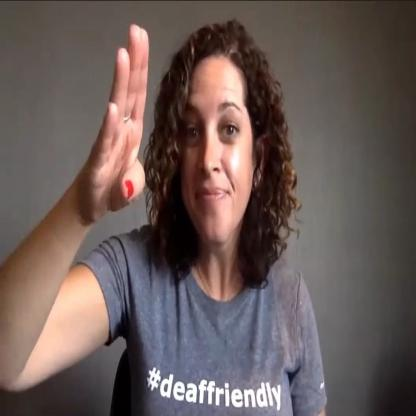Hello: (56, 0, 300, 285)
